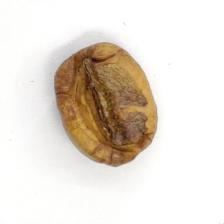NG: (82, 63, 150, 152)
